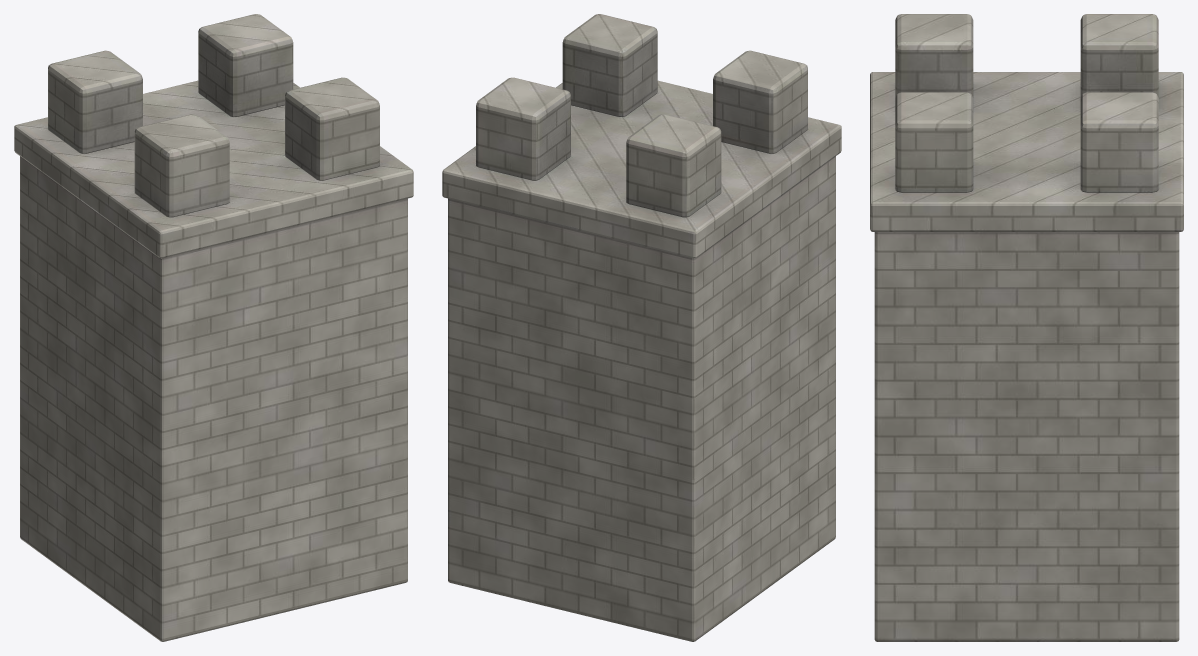
The model's file is wall.glb.
3 renders of one model, left to right at view 1: azimuth 30°, elevation 25°; view 2: azimuth 150°, elevation 25°; view 3: azimuth 270°, elevation 25°, orthographic. The views are drawn at different scales.
Visible parts, largest first — view 1: wall; view 2: wall; view 3: wall.
Boxes of the visible parts, box(x1,y1,x2,y2) form: wall: box(14, 14, 413, 641); wall: box(442, 14, 841, 641); wall: box(870, 14, 1183, 641).
Size of the model in its own units: 2.1 by 3.78 by 2.1.
Materials: 1 (1 with a texture image).
